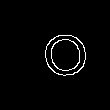O_S: (41, 31, 94, 88)
